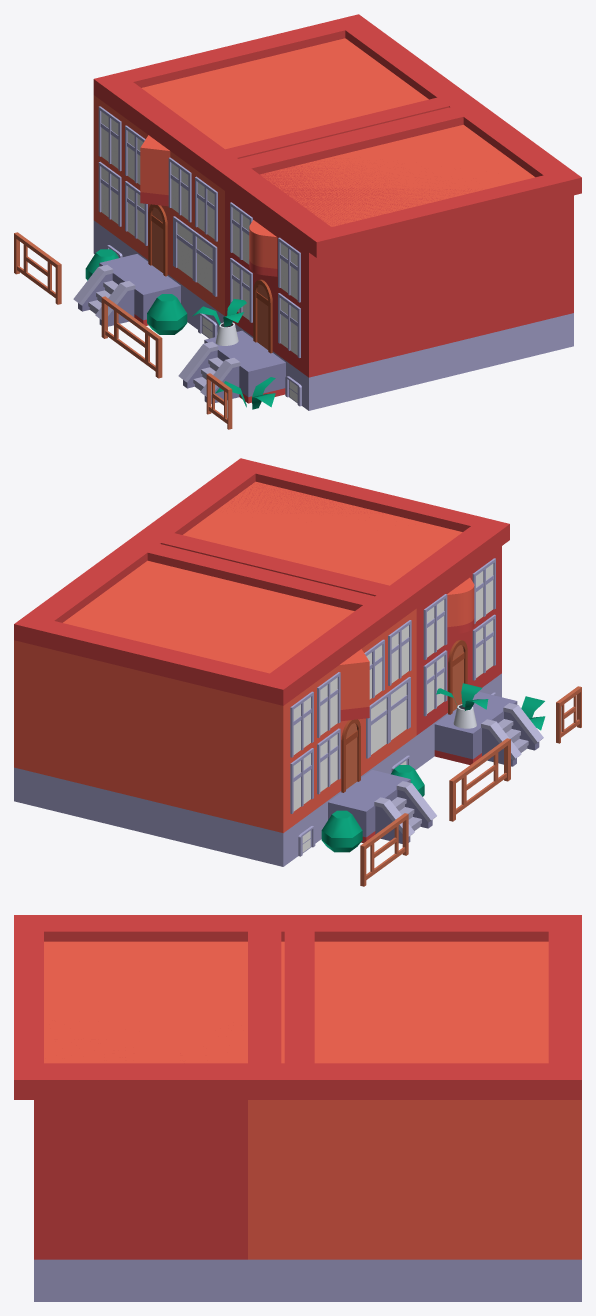
File: brownstone.glb
The picture shows the model from 3 angles, top to bottom: view 1: azimuth 30°, elevation 25°; view 2: azimuth 150°, elevation 25°; view 3: azimuth 270°, elevation 25°; orthographic projection. The views are drawn at different scales.
Visible parts, largest first — view 1: mergedBlocks(Clone); view 2: mergedBlocks(Clone); view 3: mergedBlocks(Clone).
Part boxes in pixels (bbox=[...]): mergedBlocks(Clone): bbox=[14, 14, 581, 429]; mergedBlocks(Clone): bbox=[14, 458, 581, 886]; mergedBlocks(Clone): bbox=[14, 915, 581, 1301].
Size of the model in its own units: 4.55 by 2.2 by 5.1.
